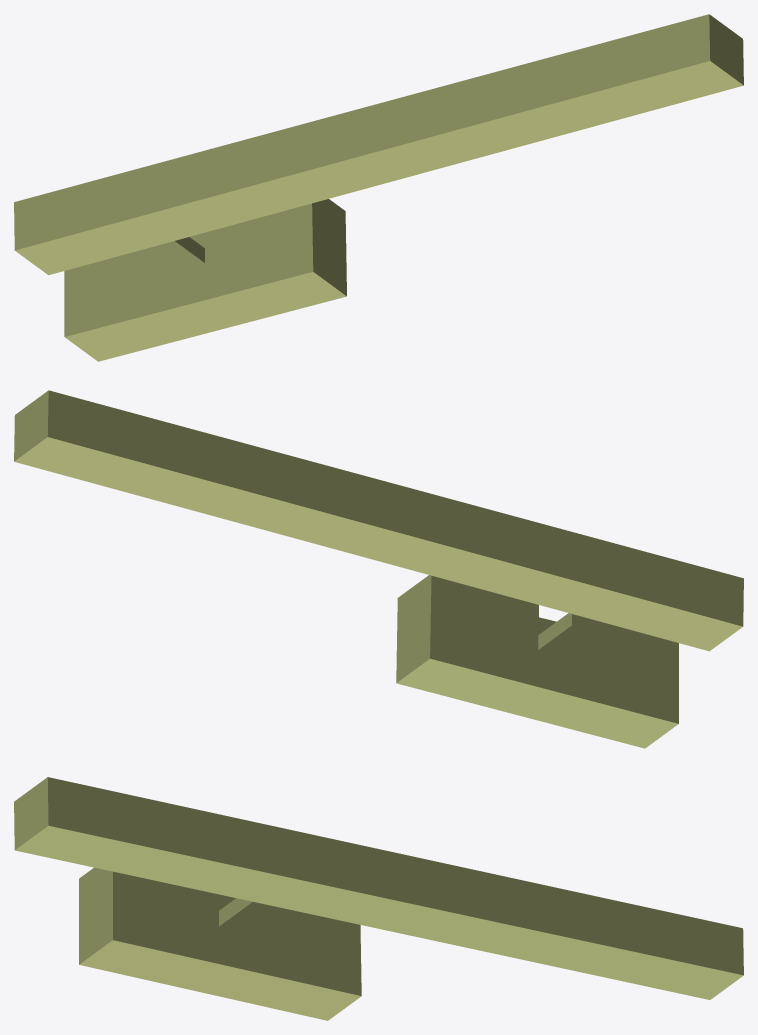
3 views of the same model, one above another, from view 1: azimuth 30°, elevation 25°; view 2: azimuth 150°, elevation 25°; view 3: azimuth 330°, elevation 25° (orthographic).
Parts seen in each view (by area): view 1: 0_3_1_3_0; view 2: 0_3_1_3_0; view 3: 0_3_1_3_0.
Part boxes in pixels (x1,y1,x2,y2): 0_3_1_3_0: (14,14,743,361); 0_3_1_3_0: (14,390,743,748); 0_3_1_3_0: (14,777,743,1020).
Bounding box in the file's own units: 71.35 × 16.92 × 7.3.
